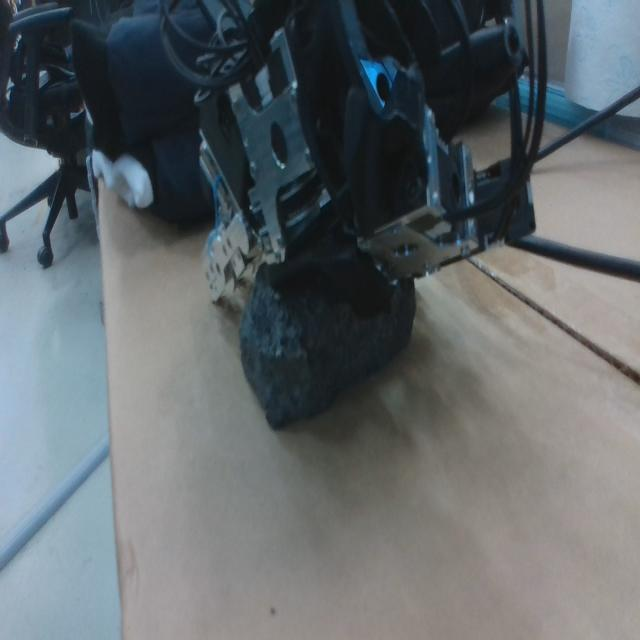stone: (239, 260, 416, 433)
